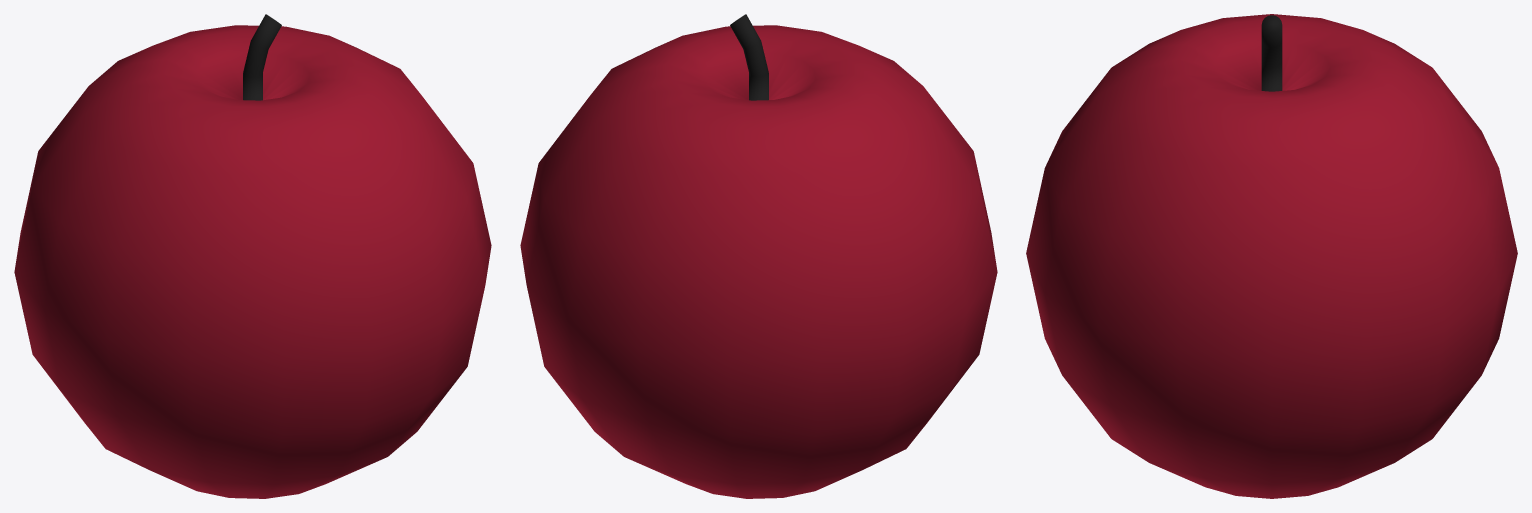
The model's file is Apple_00.fbx.
3 views of the same model, side by side, from view 1: azimuth 30°, elevation 25°; view 2: azimuth 150°, elevation 25°; view 3: azimuth 270°, elevation 25° (orthographic). The views are drawn at different scales.
Parts seen in each view (by area): view 1: Apple_00; view 2: Apple_00; view 3: Apple_00.
Part boxes in pixels (x1,y1,x2,y2): Apple_00: [14, 14, 491, 498]; Apple_00: [520, 14, 997, 498]; Apple_00: [1026, 14, 1517, 498].
Size of the model in its own units: 14.99 by 15.75 by 14.99.
